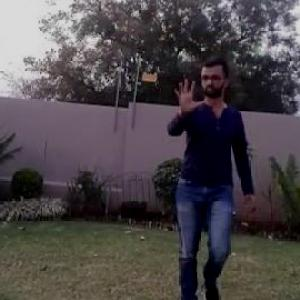follow_hand: (171, 74, 207, 116)
